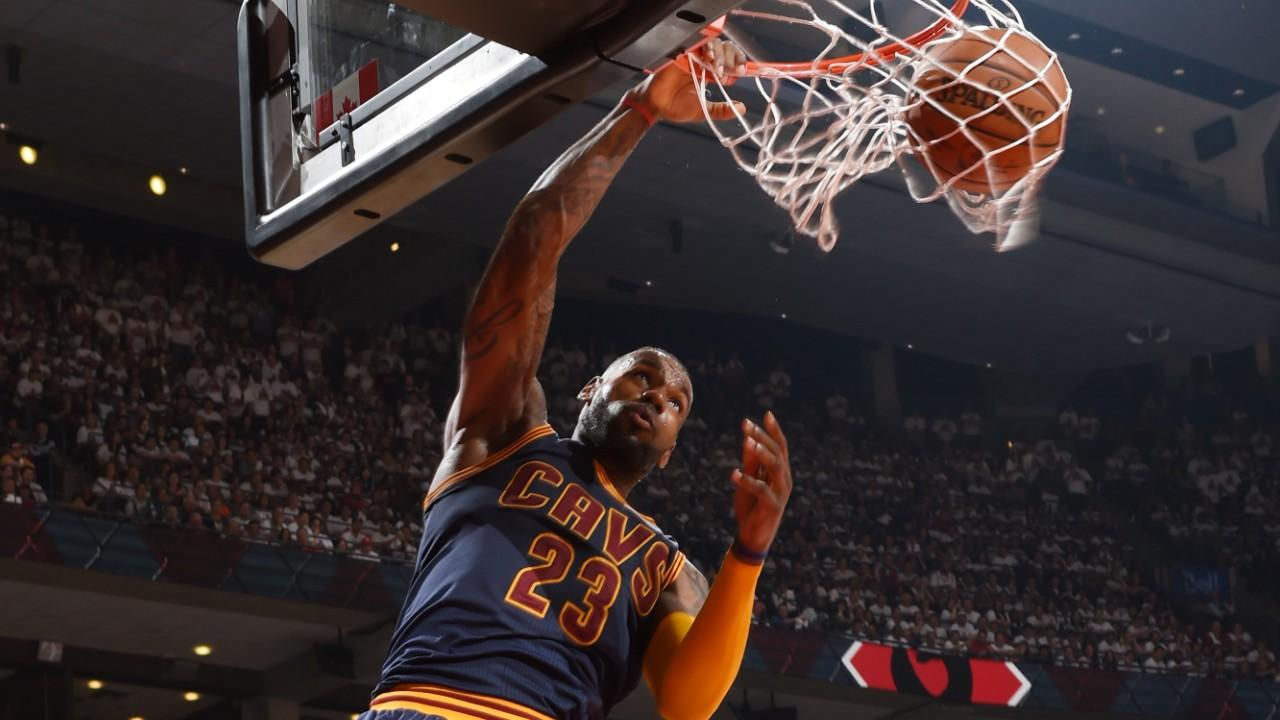Basketball: (897, 18, 1075, 203)
